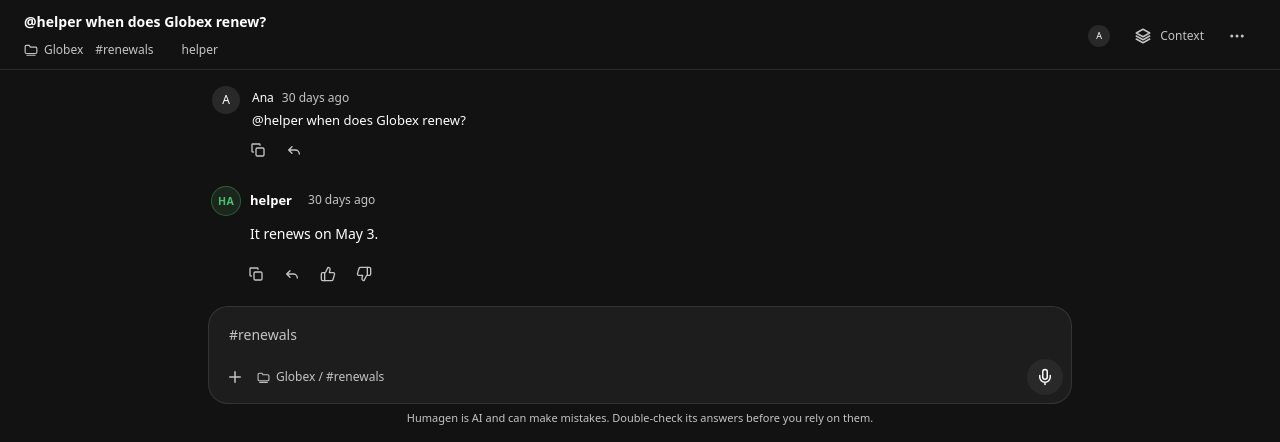
Test: agent replies expose their recorded instant with the same accessible timestamp
Focus the button "30 days ago" in the row of "HA" at (342, 200), box [308, 188, 375, 212]
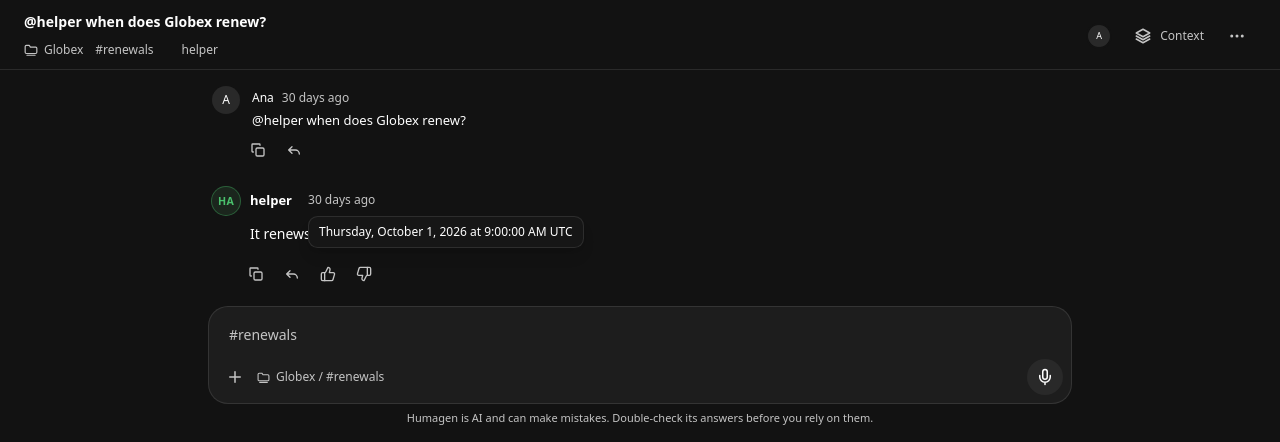
Press Escape in the button "30 days ago" in the row of "HA", box [308, 188, 375, 212]
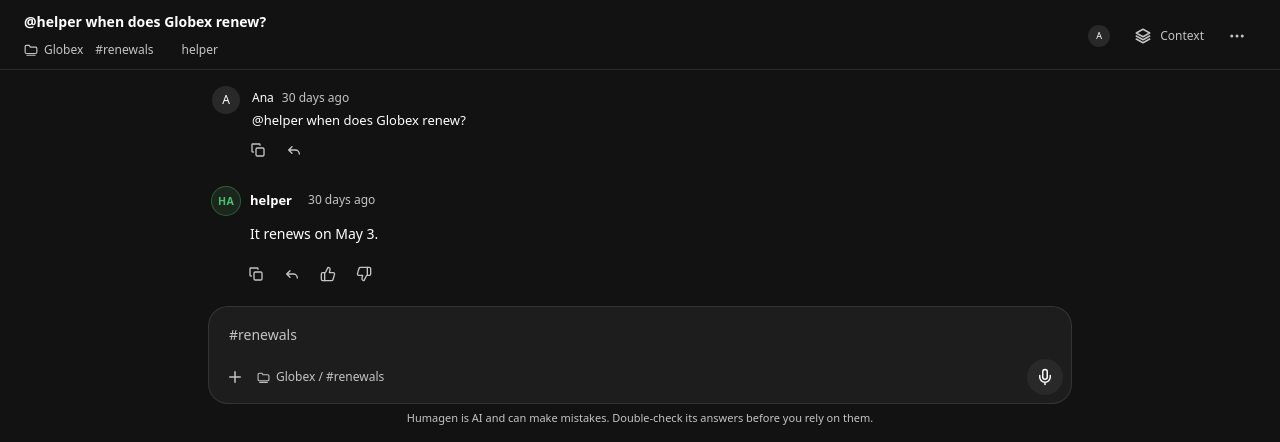
Check: the tooltip "Thursday, October 1, 2026 at 9:00:00 AM UTC" is gone
